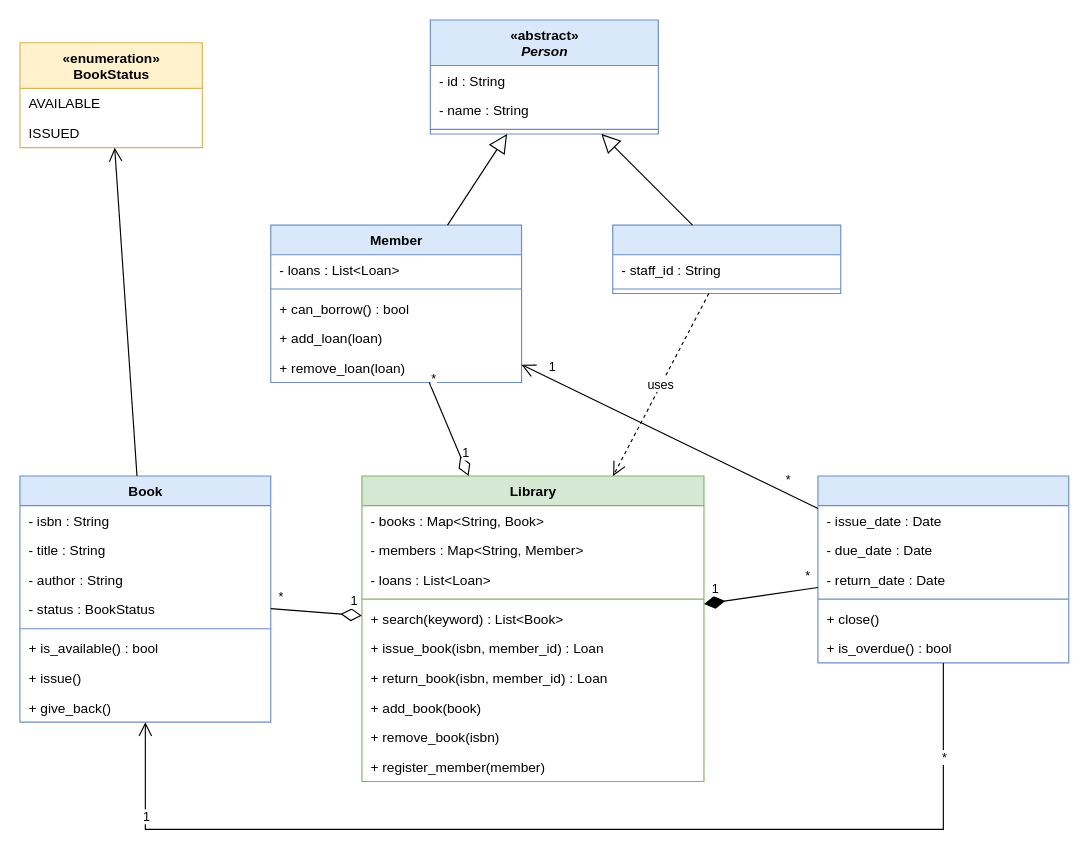
The diagram is 1089 pixels wide and 863 high, and some of its shapes have lost their labels. Here are the shapes that lost their labels. From the top down, the box of each, then its label:
(612, 224, 841, 294): Librarian
(817, 475, 1069, 663): Loan
